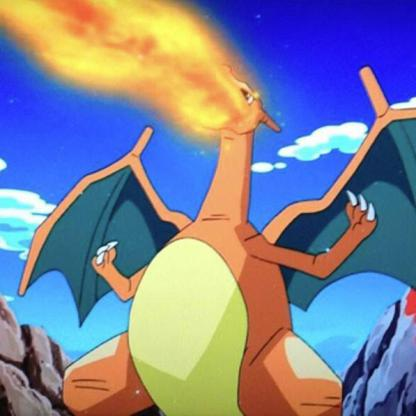Charizard: (1, 53, 416, 416)
